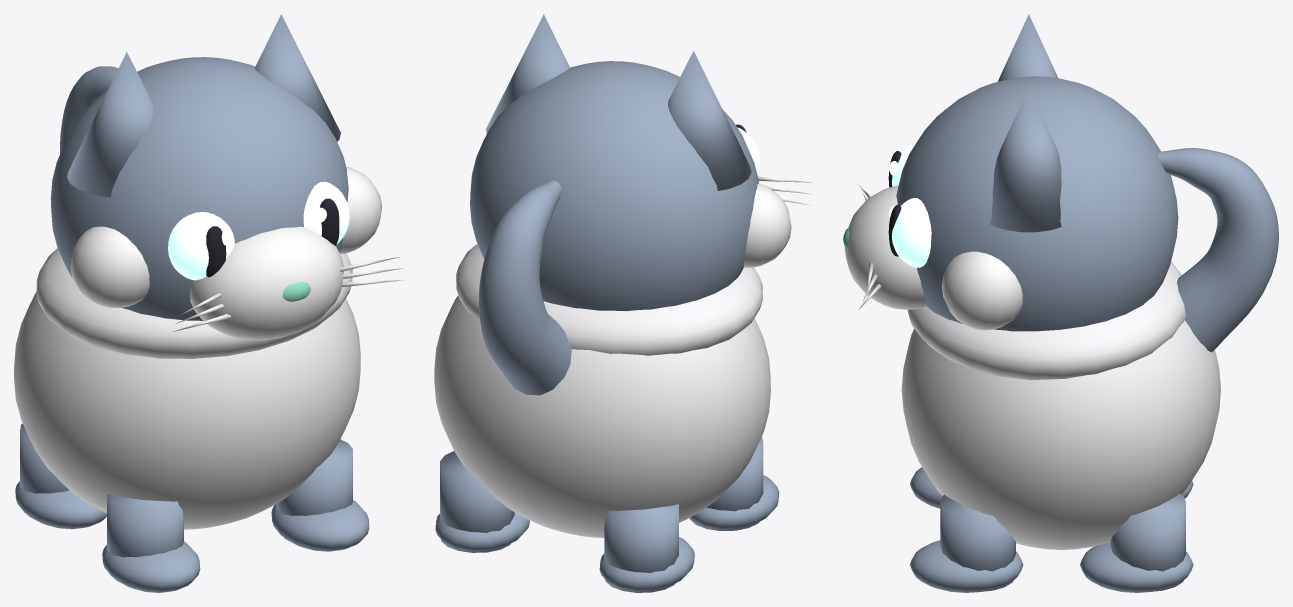
File: ragdoll_therapist.glb
3 renders of one model, left to right at view 1: azimuth 30°, elevation 25°; view 2: azimuth 150°, elevation 25°; view 3: azimuth 270°, elevation 25°, orthographic. The views are drawn at different scales.
Visible parts, largest first — view 1: ragdoll_therapist; view 2: ragdoll_therapist; view 3: ragdoll_therapist.
Boxes of the visible parts, x1,y1,x2,y2 form: ragdoll_therapist: (14, 14, 404, 592); ragdoll_therapist: (434, 14, 811, 592); ragdoll_therapist: (843, 14, 1278, 592).
Bounding box in the file's own units: 1.21 × 1.9 × 1.52.
